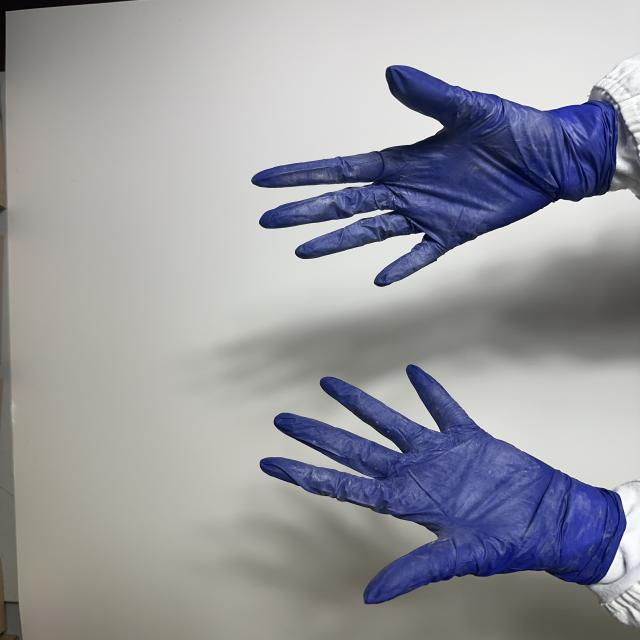gloves_contaminated: (260, 366, 626, 603), (252, 66, 625, 286)
